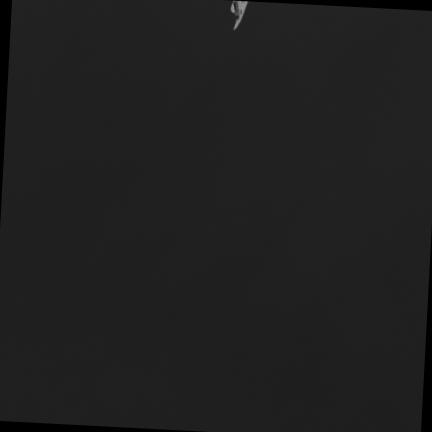Shahed: (230, 1, 247, 29)
